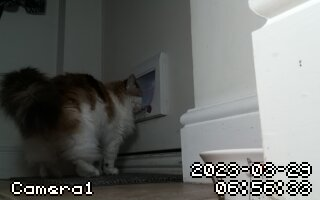clara: (9, 63, 148, 178)
